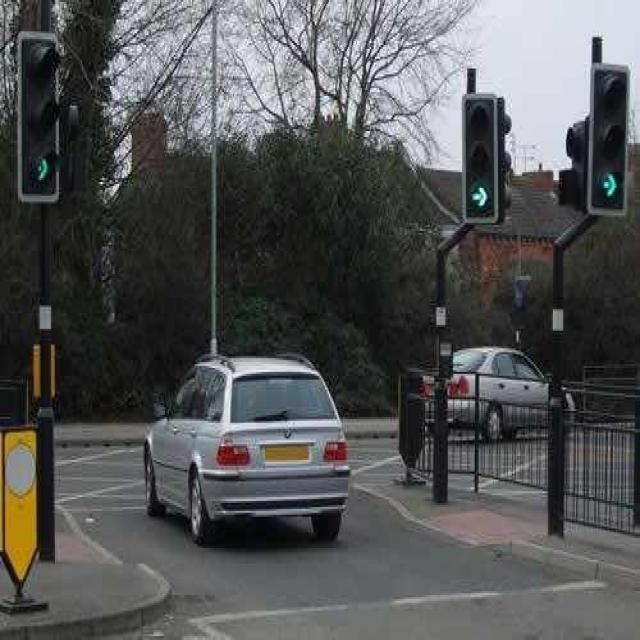Traffic Light -Green-: (19, 32, 61, 206), (588, 64, 631, 219), (463, 96, 500, 228)
